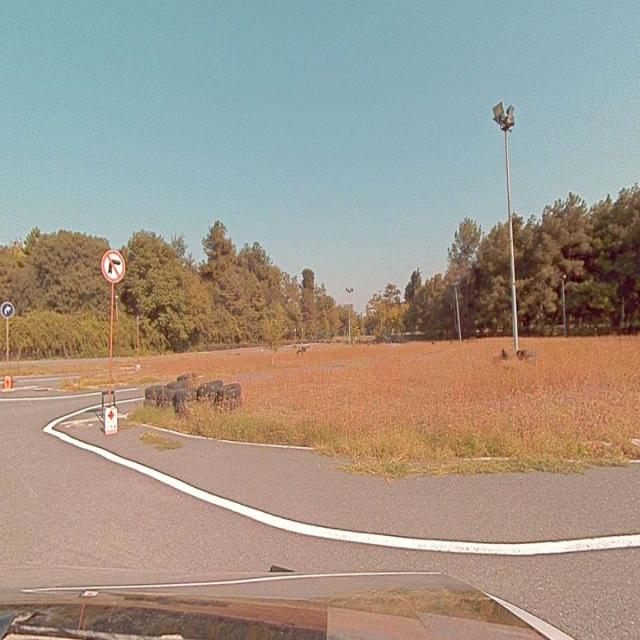sag: (1, 302, 13, 318)
sagadonulmez: (98, 250, 126, 282)
